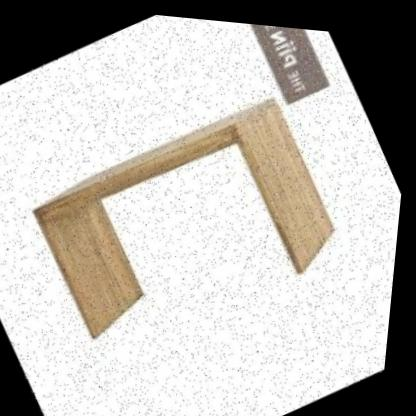Table: (0, 42, 385, 404)
